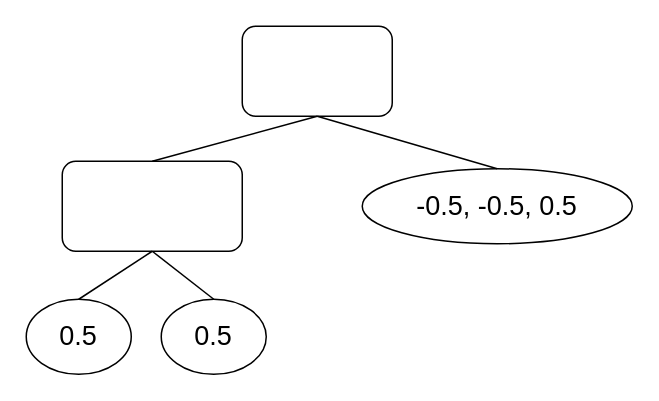
Image size: 659x401. Some labels were removed from this diagram. The shapes that lost their labels are listed below. From the top down, each one's box as (x1, y1, x2, y2) in pixels, then its label:
(241, 25, 392, 116): cp = 3
(61, 160, 242, 251): thalac < 170
